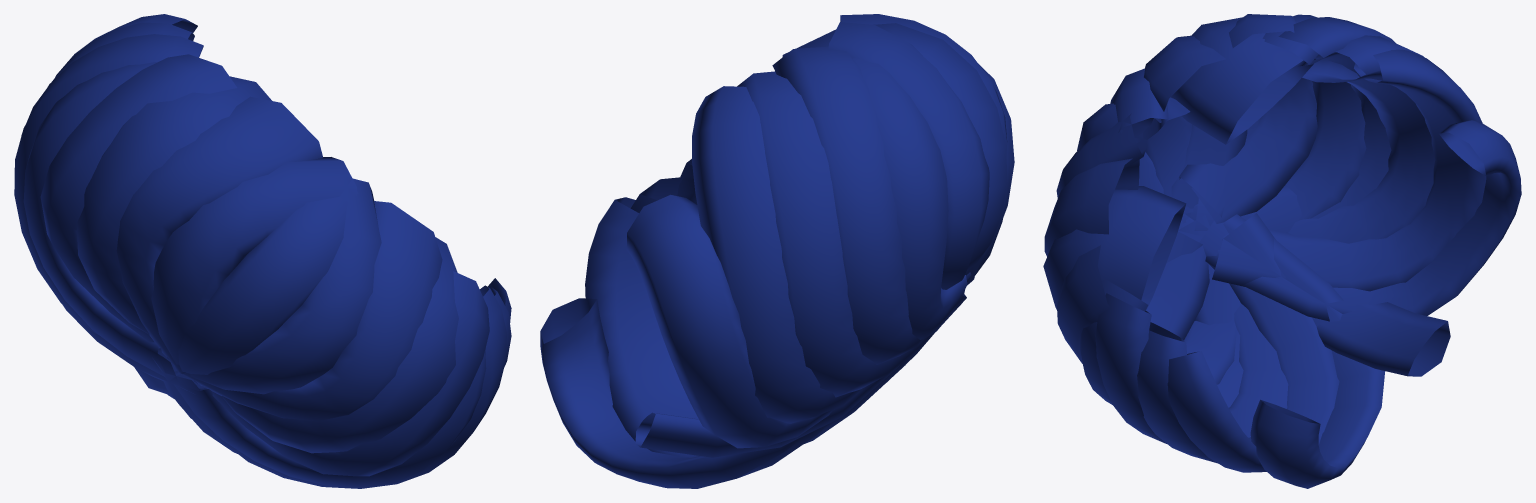
File: doremy_hair_back.glb
The picture shows the model from 3 angles, left to right: view 1: azimuth 30°, elevation 25°; view 2: azimuth 150°, elevation 25°; view 3: azimuth 270°, elevation 25°; orthographic projection. The views are drawn at different scales.
Visible parts, largest first — view 1: doremy_hair_back; view 2: doremy_hair_back; view 3: doremy_hair_back.
Boxes of the visible parts, left/top/right/bottom form: doremy_hair_back: left=14, top=14, right=511, bottom=488; doremy_hair_back: left=540, top=14, right=1014, bottom=488; doremy_hair_back: left=1043, top=14, right=1521, bottom=488.
Size of the model in its own units: 1.38 by 1.41 by 1.61.
